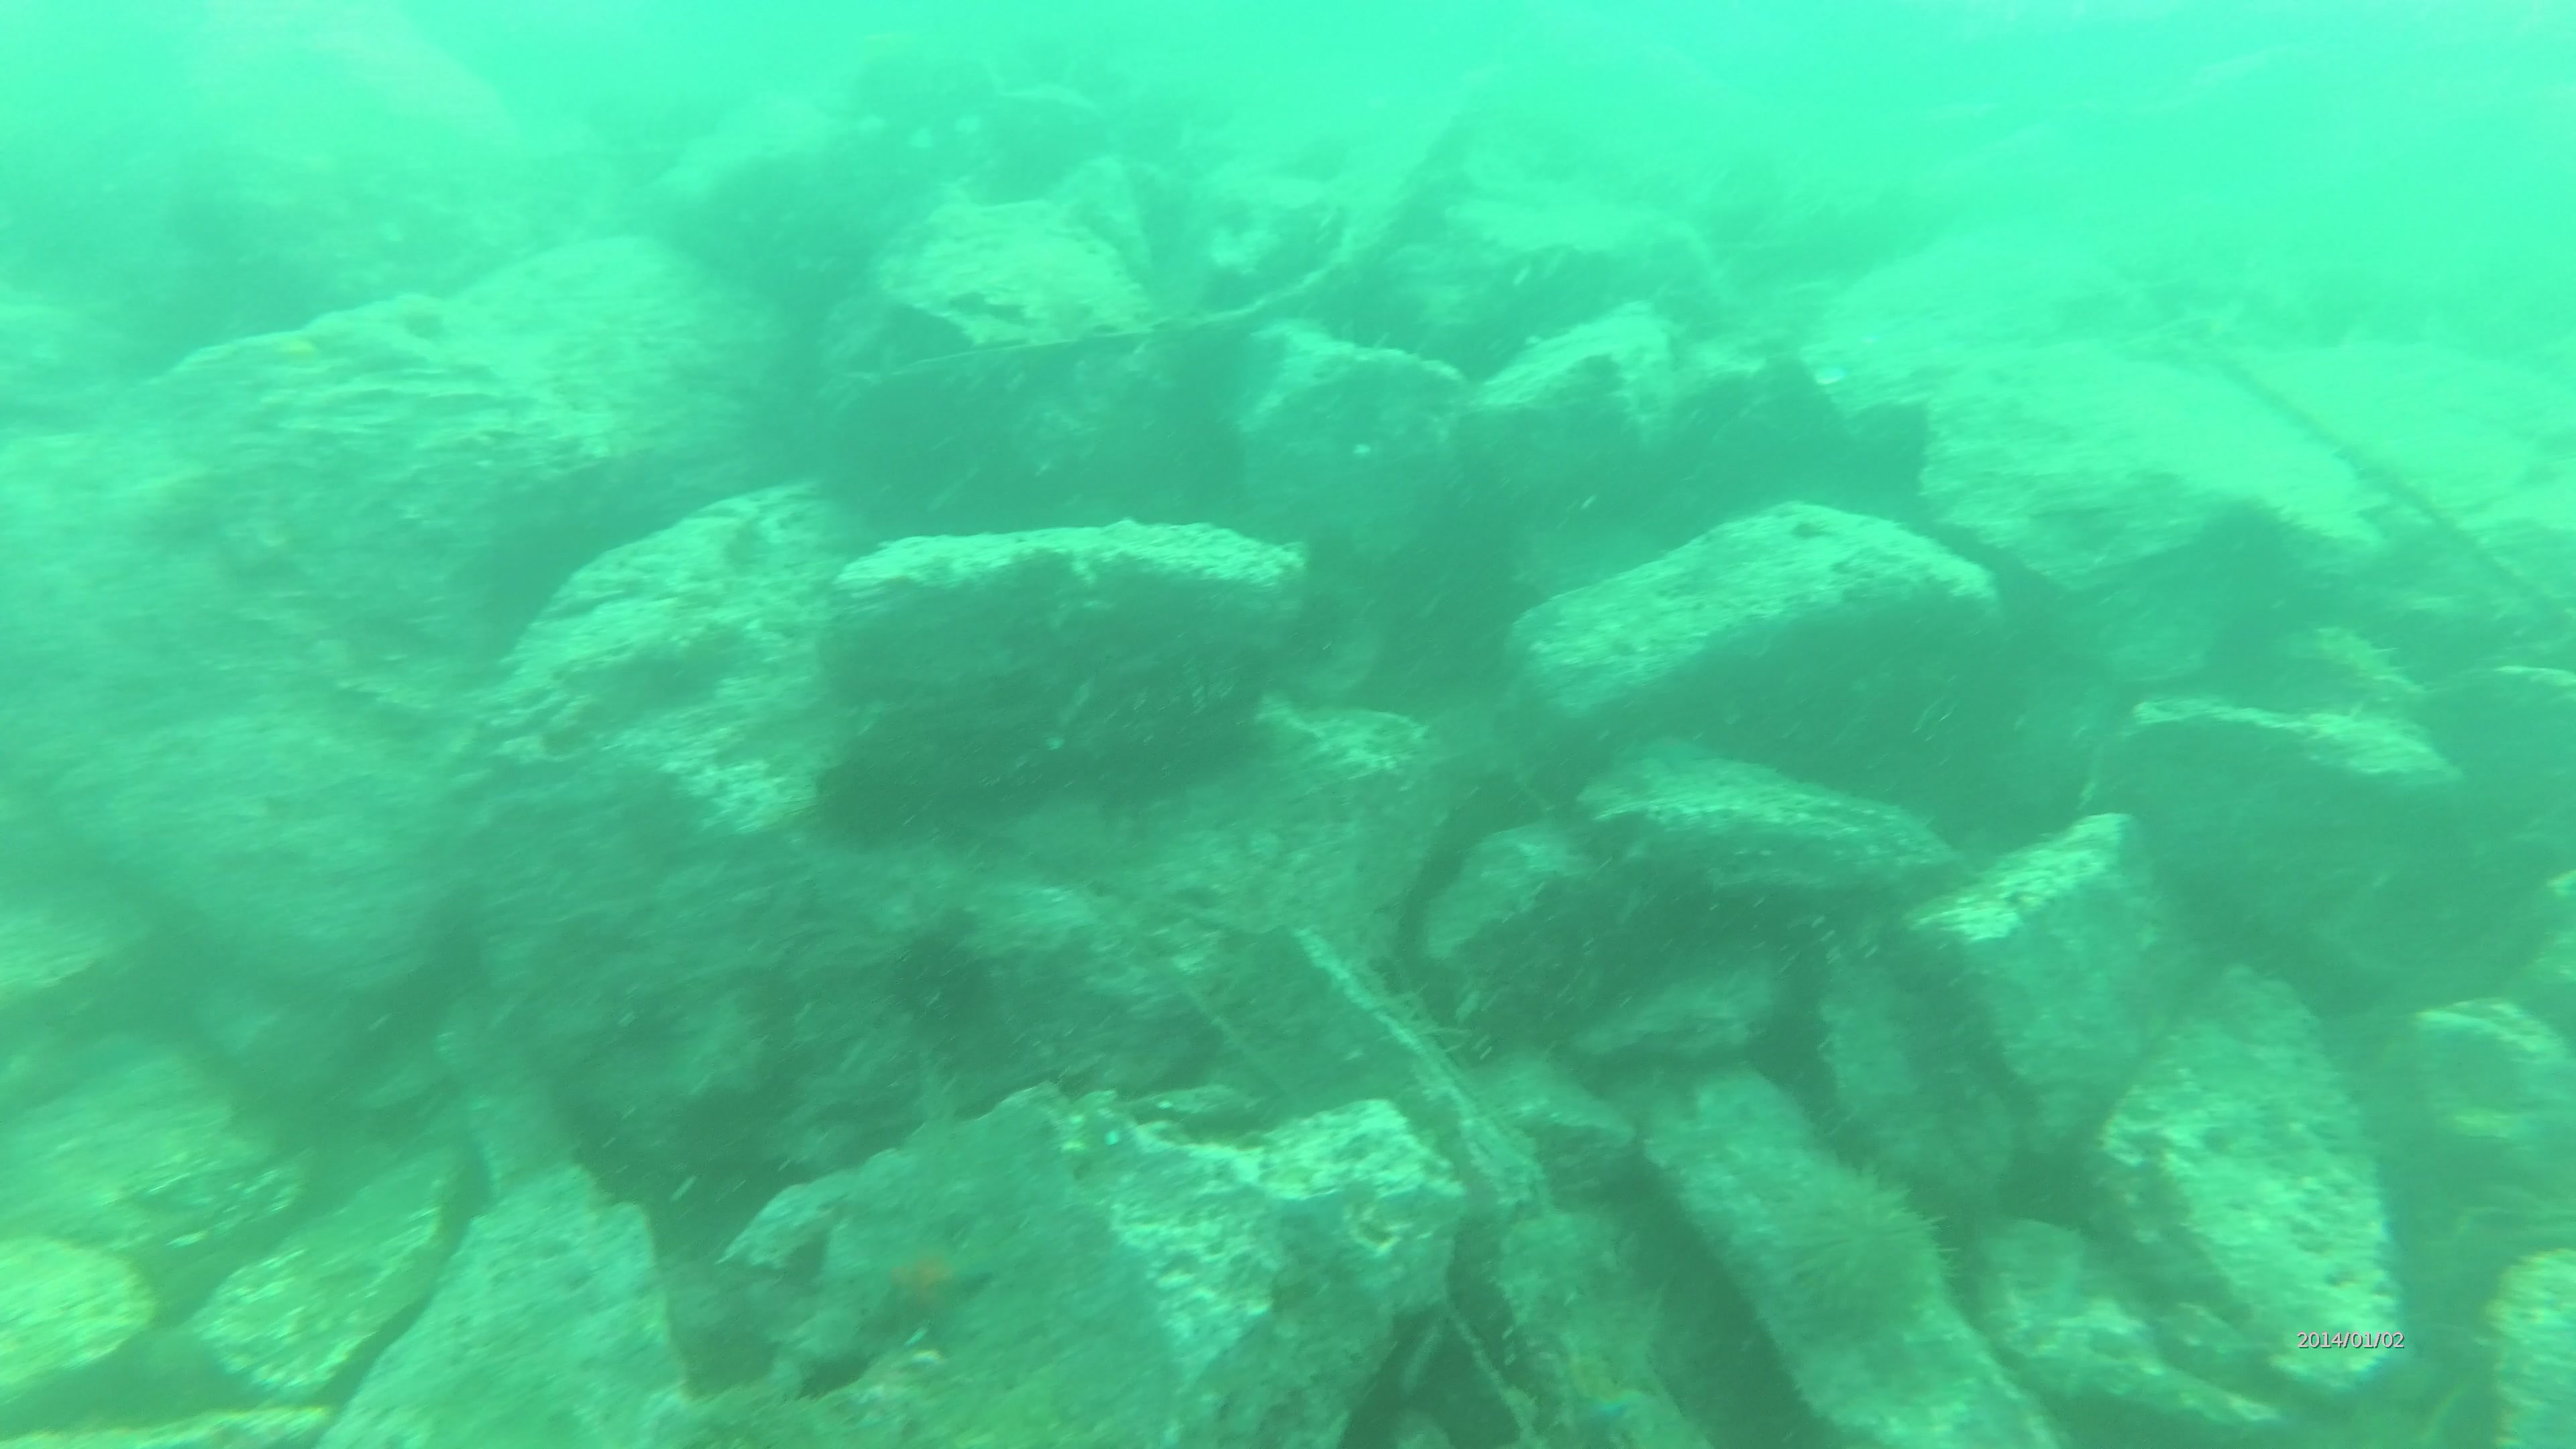echinus: (1752, 1177, 1939, 1330), (876, 931, 991, 1024), (817, 763, 922, 860)
starfish: (853, 1224, 994, 1339)
